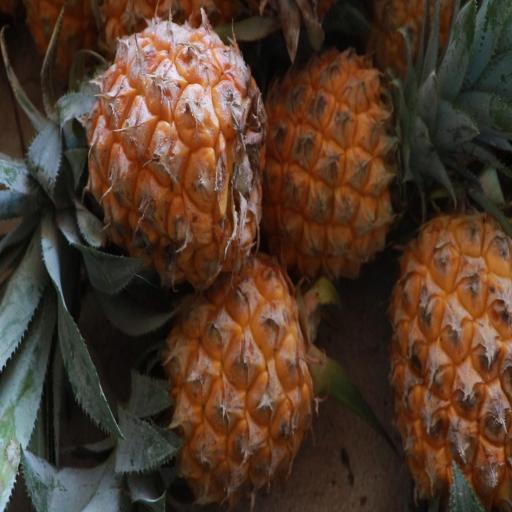Pineapple - v8 v1: (22, 12, 276, 306), (138, 238, 326, 512), (264, 42, 443, 298), (383, 203, 512, 512)
